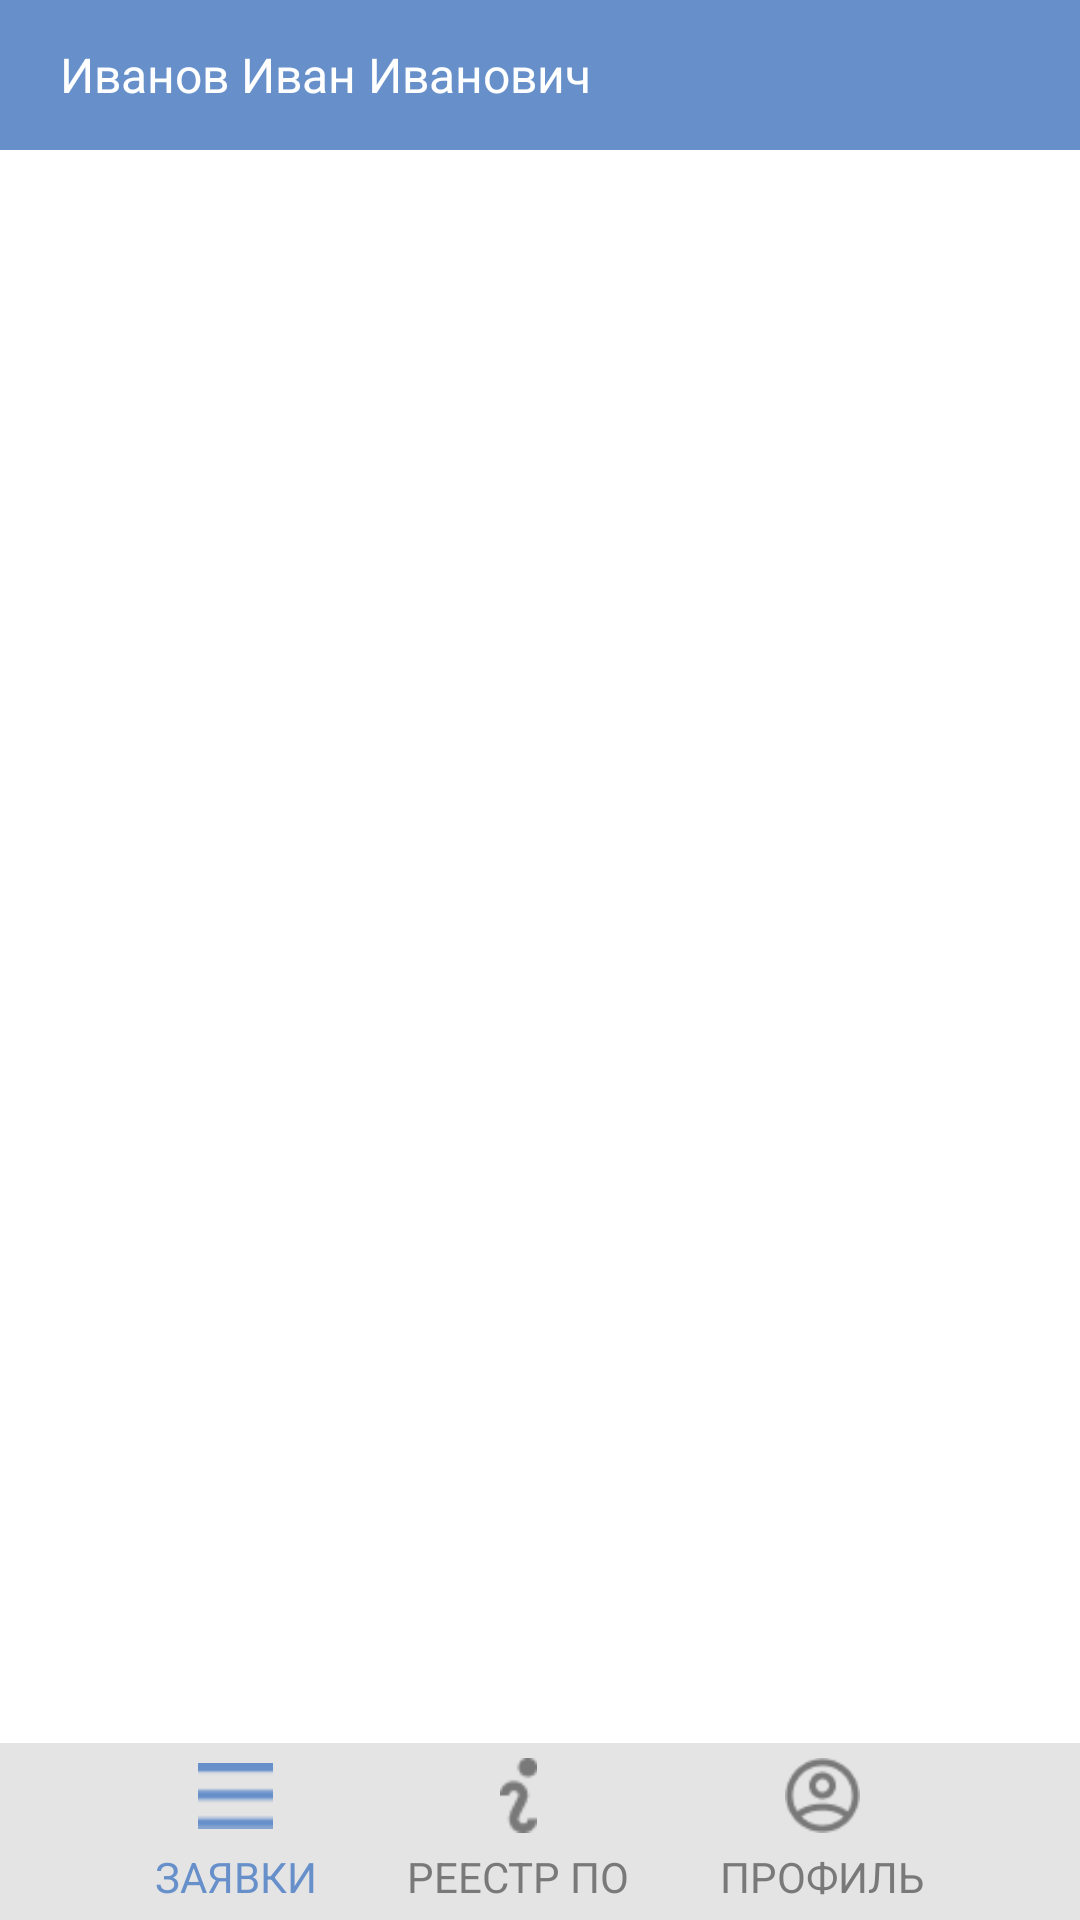

Locate icon controls on the screen. Image size 1080x1920, boxes as (x1, y1, x2, y2).
info: (500, 1758, 537, 1833)
menu: (198, 1763, 273, 1829)
